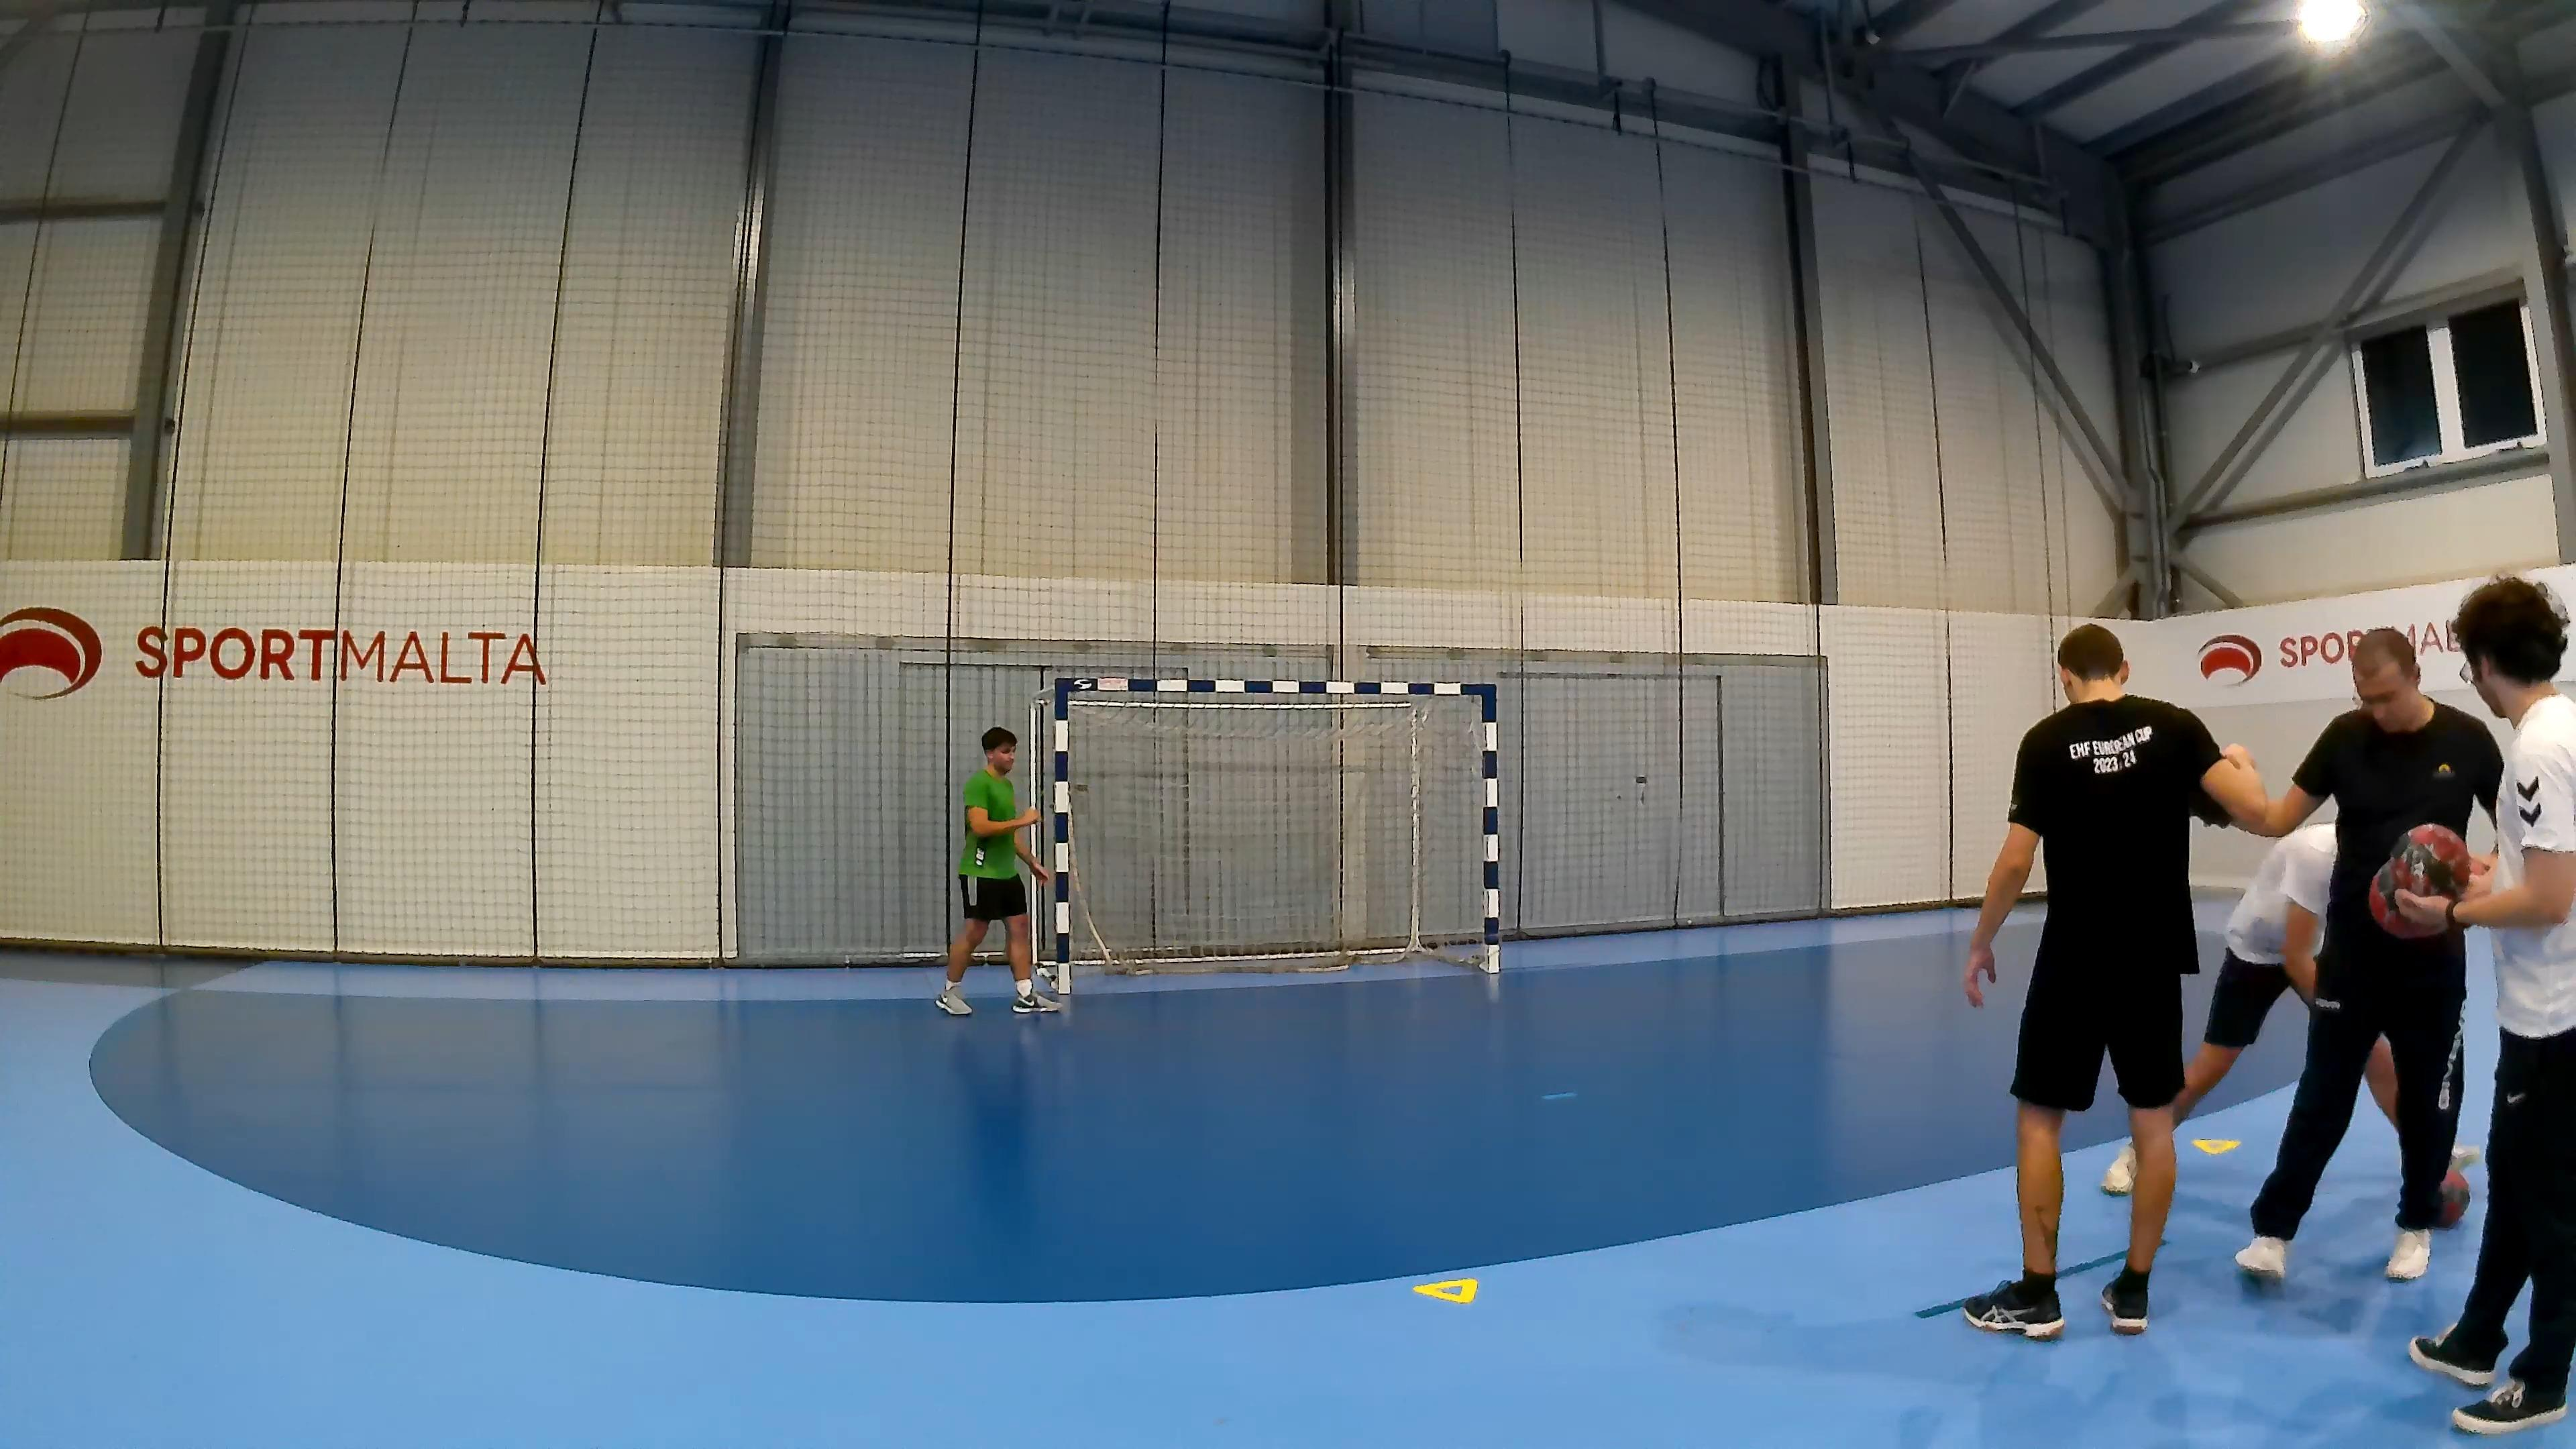handball: (2367, 823, 2472, 938)
